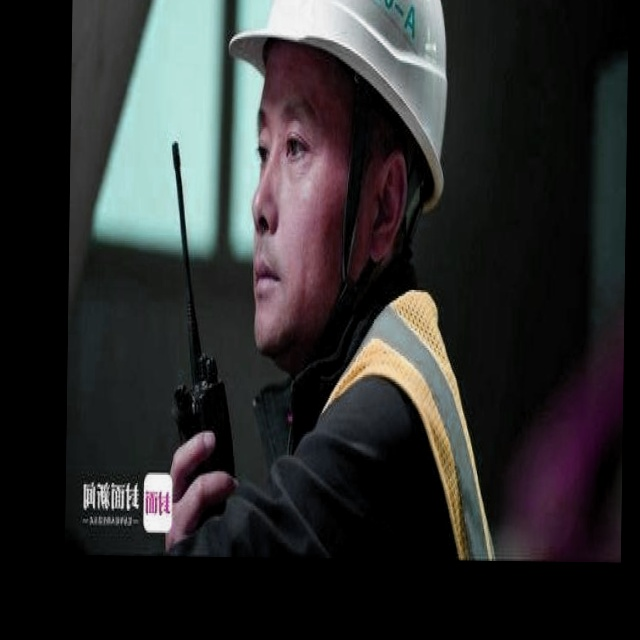Con_Casco: (245, 0, 453, 340)
Con_Chaleco: (311, 286, 502, 560)
